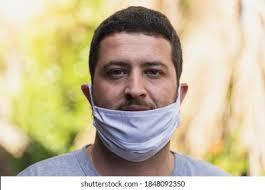mask_weared_incorrect: (93, 25, 175, 152)
